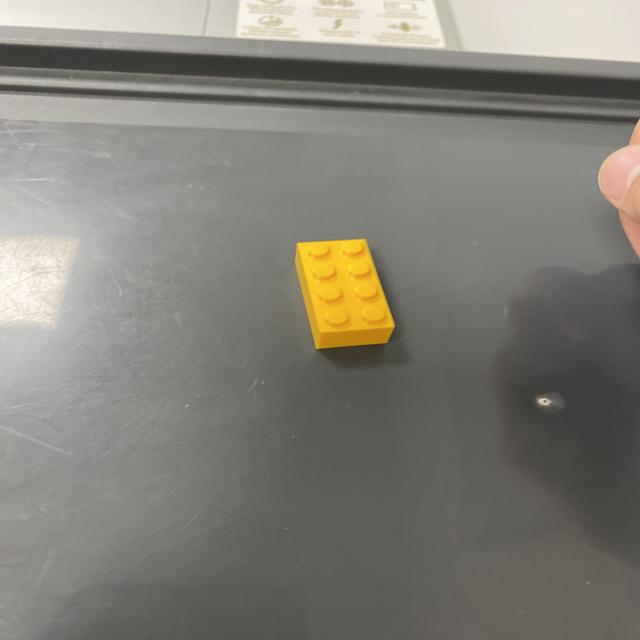C4x2x1: (295, 237, 401, 350)
